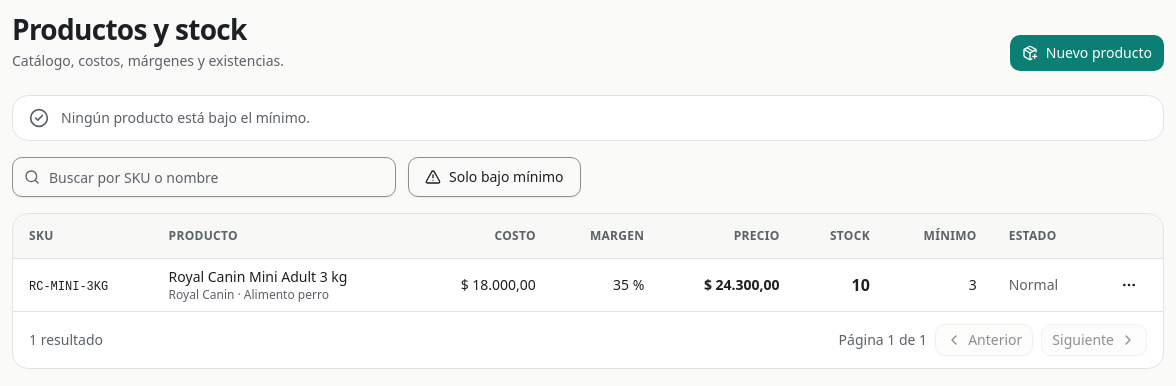
Test: ProductosPage › busca con /productos/buscar al tipear
Expected: the text "Royal Canin Mini Adult 3 kg" is shown, [169,266,348,286]
Type "whiskas" into the search field named "Buscar productos" at (204, 177), box [12,157,396,197]
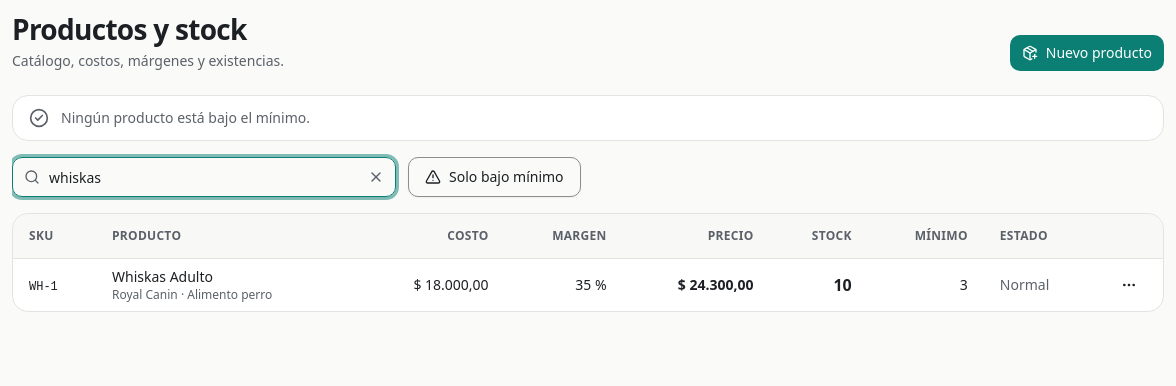
Expected: the text "Whiskas Adulto" is shown, [112,266,213,286]
Expected: the text "Royal Canin Mini Adult 3 kg" is gone
